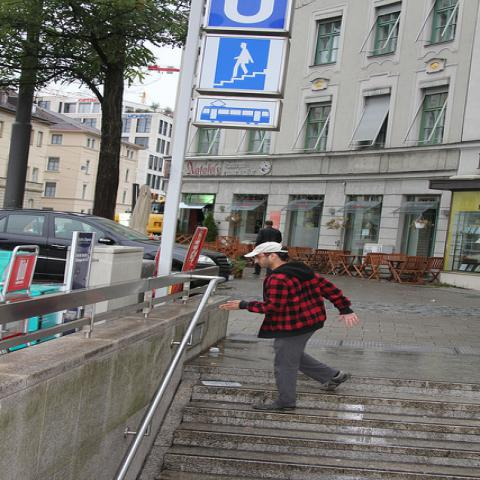car: (2, 206, 239, 277)
